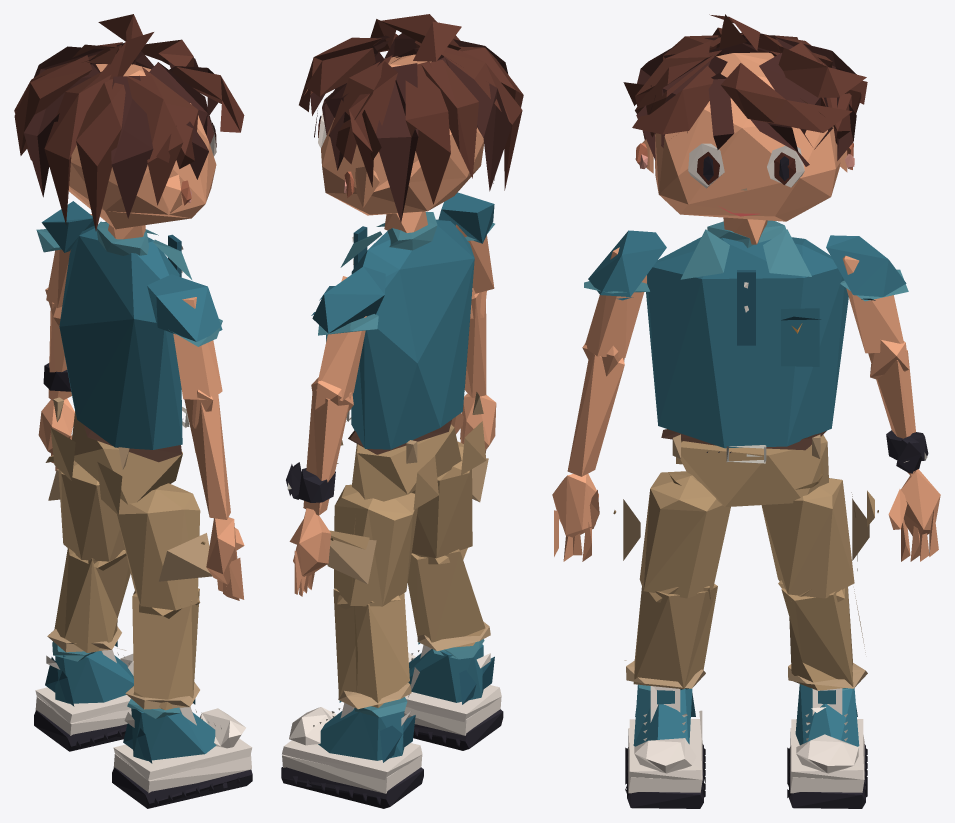
File: npc.civilian-man-a.lod2.glb
The picture shows the model from 3 angles, left to right: view 1: azimuth 30°, elevation 25°; view 2: azimuth 150°, elevation 25°; view 3: azimuth 270°, elevation 25°; orthographic projection. The views are drawn at different scales.
Parts seen in each view (by area): view 1: head, torso, footR, legR, footL, shinR, hip, shinL, armR, legL, foreArmR, armL (+3 smaller); view 2: head, torso, footL, legL, footR, shinL, hip, shinR, armL, foreArmL, legR, armR (+3 smaller); view 3: torso, head, legR, legL, footR, footL, hip, shinR, shinL, armR, armL, foreArmL (+3 smaller).
Boxes of the visible parts, box(x1,y1,x2,y2) form: head: box(14, 14, 244, 239); torso: box(59, 221, 191, 449); footR: box(112, 698, 252, 808); legR: box(117, 483, 211, 610); footL: box(34, 641, 133, 751); shinR: box(125, 588, 200, 710); hip: box(50, 397, 195, 515); shinL: box(47, 548, 130, 652); armR: box(147, 274, 222, 399); legL: box(45, 455, 125, 561); foreArmR: box(184, 389, 230, 519); armL: box(36, 201, 94, 307); head: box(299, 14, 523, 232); torso: box(319, 212, 474, 449); footL: box(281, 697, 423, 808); legL: box(327, 484, 417, 606); footR: box(404, 639, 503, 750); shinL: box(333, 588, 411, 709); hip: box(337, 392, 486, 509); shinR: box(407, 548, 490, 651); armL: box(311, 266, 385, 400); foreArmL: box(286, 377, 353, 515); legR: box(411, 441, 488, 558); armR: box(438, 192, 494, 293); torso: box(646, 220, 848, 448); head: box(623, 14, 867, 244); legR: box(613, 471, 730, 598); legL: box(761, 478, 878, 598); footR: box(625, 684, 705, 808); footL: box(787, 684, 867, 808); hip: box(661, 429, 828, 506); shinR: box(624, 583, 717, 689); shinL: box(778, 580, 867, 690); armR: box(584, 230, 666, 357); armL: box(826, 235, 908, 353); foreArmL: box(868, 340, 928, 476).
Size of the model in its own units: 0.4514 by 1.79 by 0.8328.
